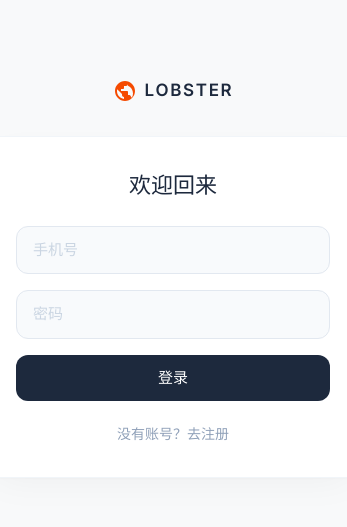
Scenario: LoginPage › switches back to login mode
The width and height of the screenshot is (347, 527).
Click the button "没有账号？去注册". click: coordinates (173, 434)
box: [117, 423, 229, 444]
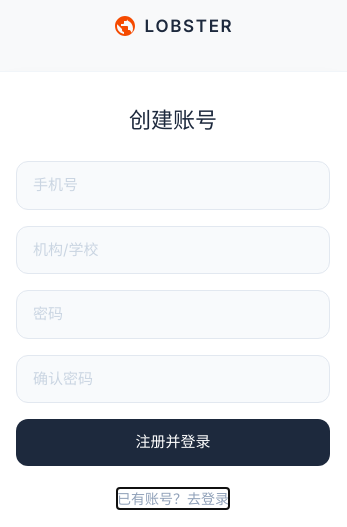
Click the button "已有账号？去登录". click: coordinates (173, 498)
box: [117, 488, 229, 508]
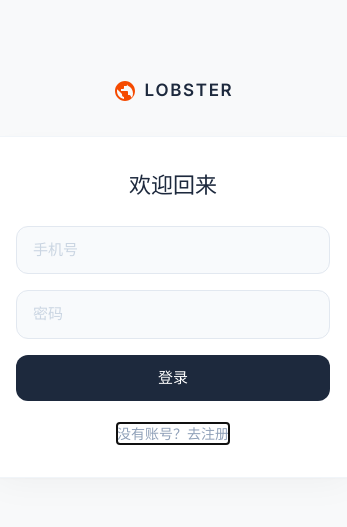
Result: the heading "欢迎回来" is shown at [129, 172, 217, 198]
